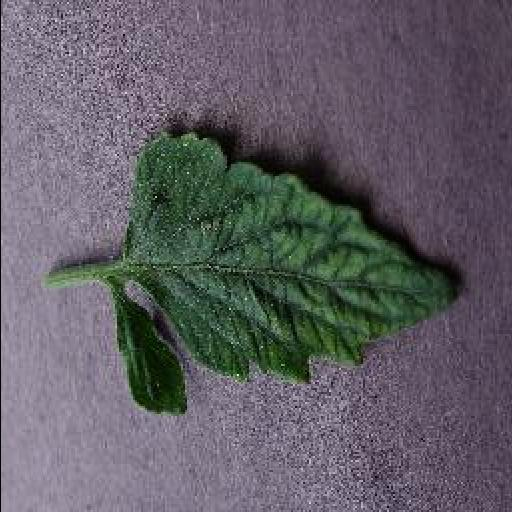Mosaic Virus: (109, 126, 463, 416)
